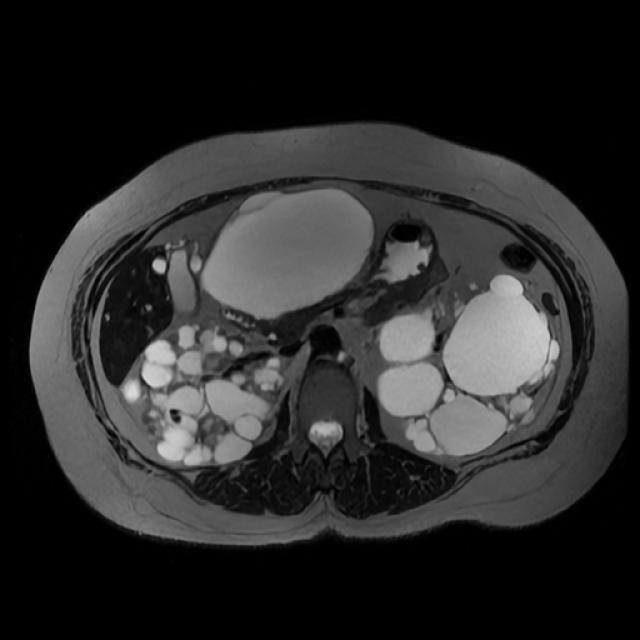sag: (120, 321, 286, 468)
sol: (377, 274, 561, 460)
